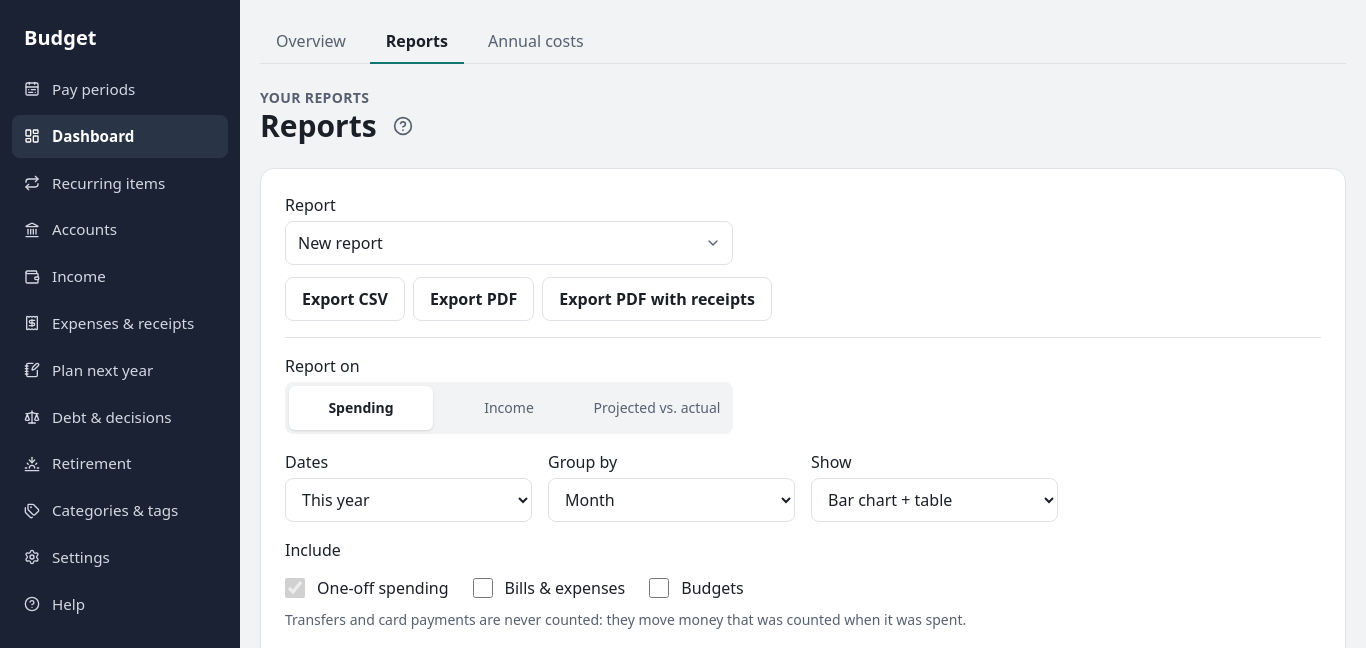
Test: Reports › drops a filter whose tag has been deleted since the report was saved
Click the dropdown labelled "Report": (509, 243) [285,221,733,265]
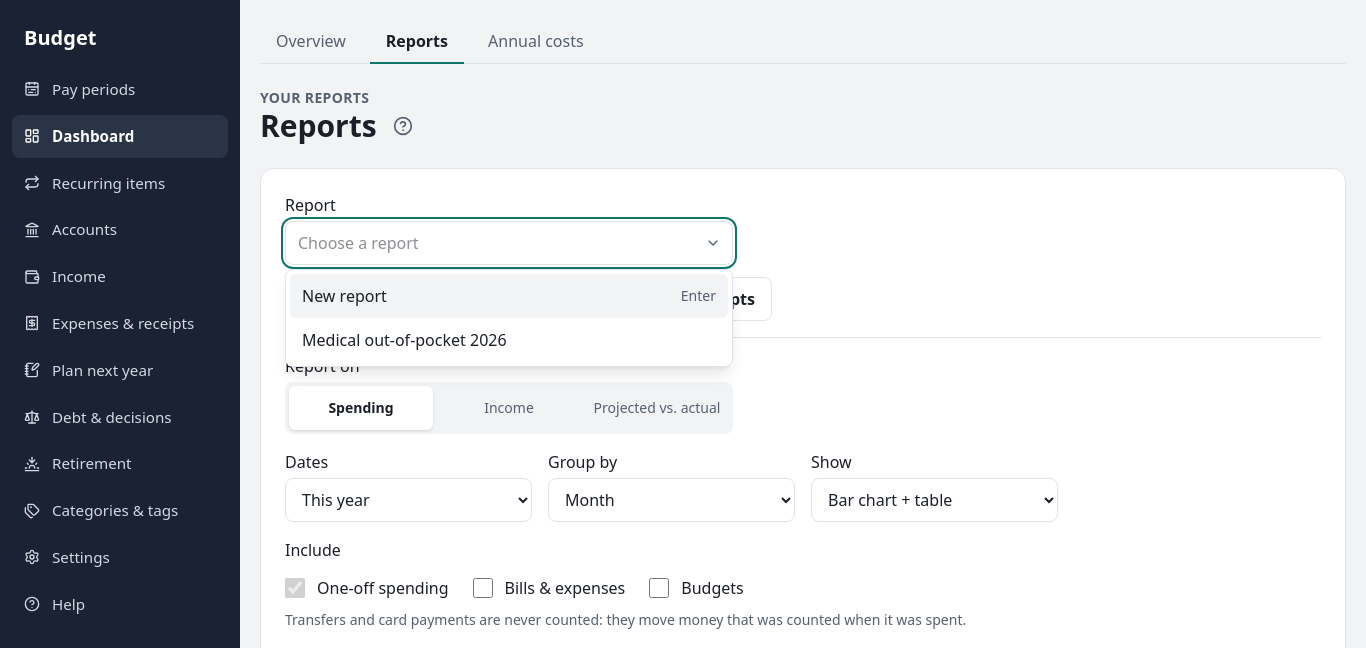
Click the option "Medical out-of-pocket 2026": (404, 340) [302,329,507,351]
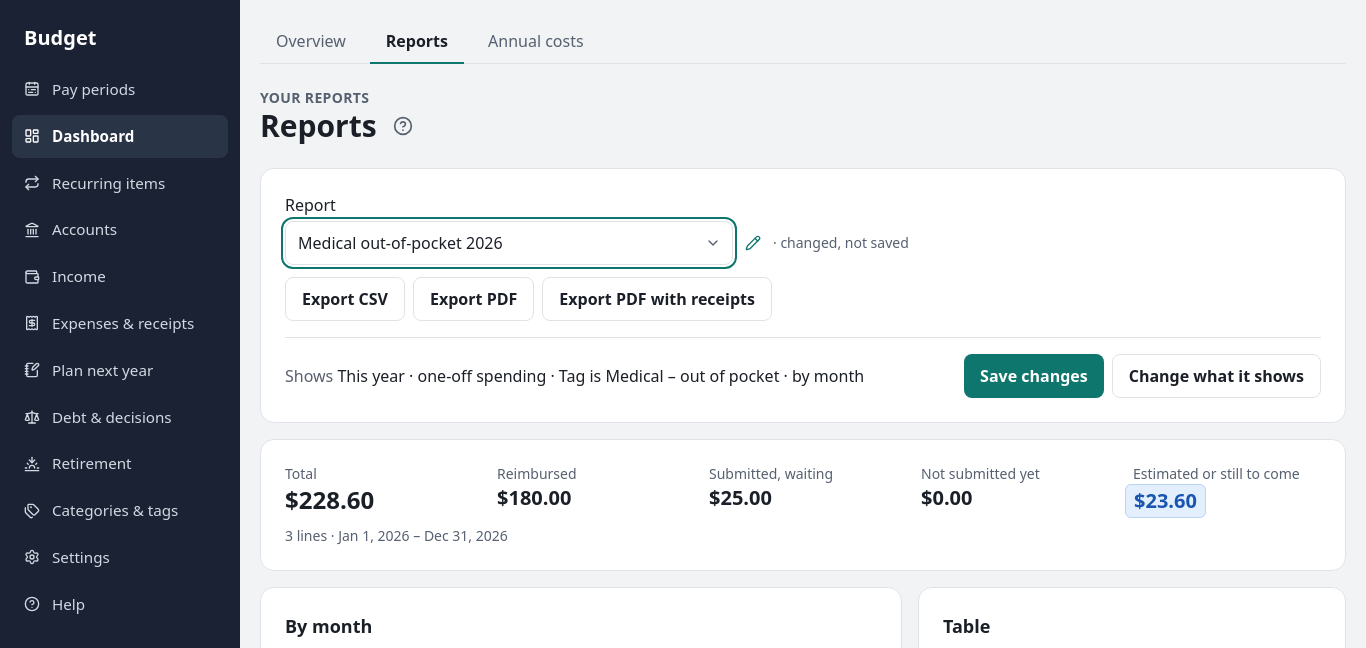
Now the text "· changed, not saved" is shown, box [773,233,909,252]
